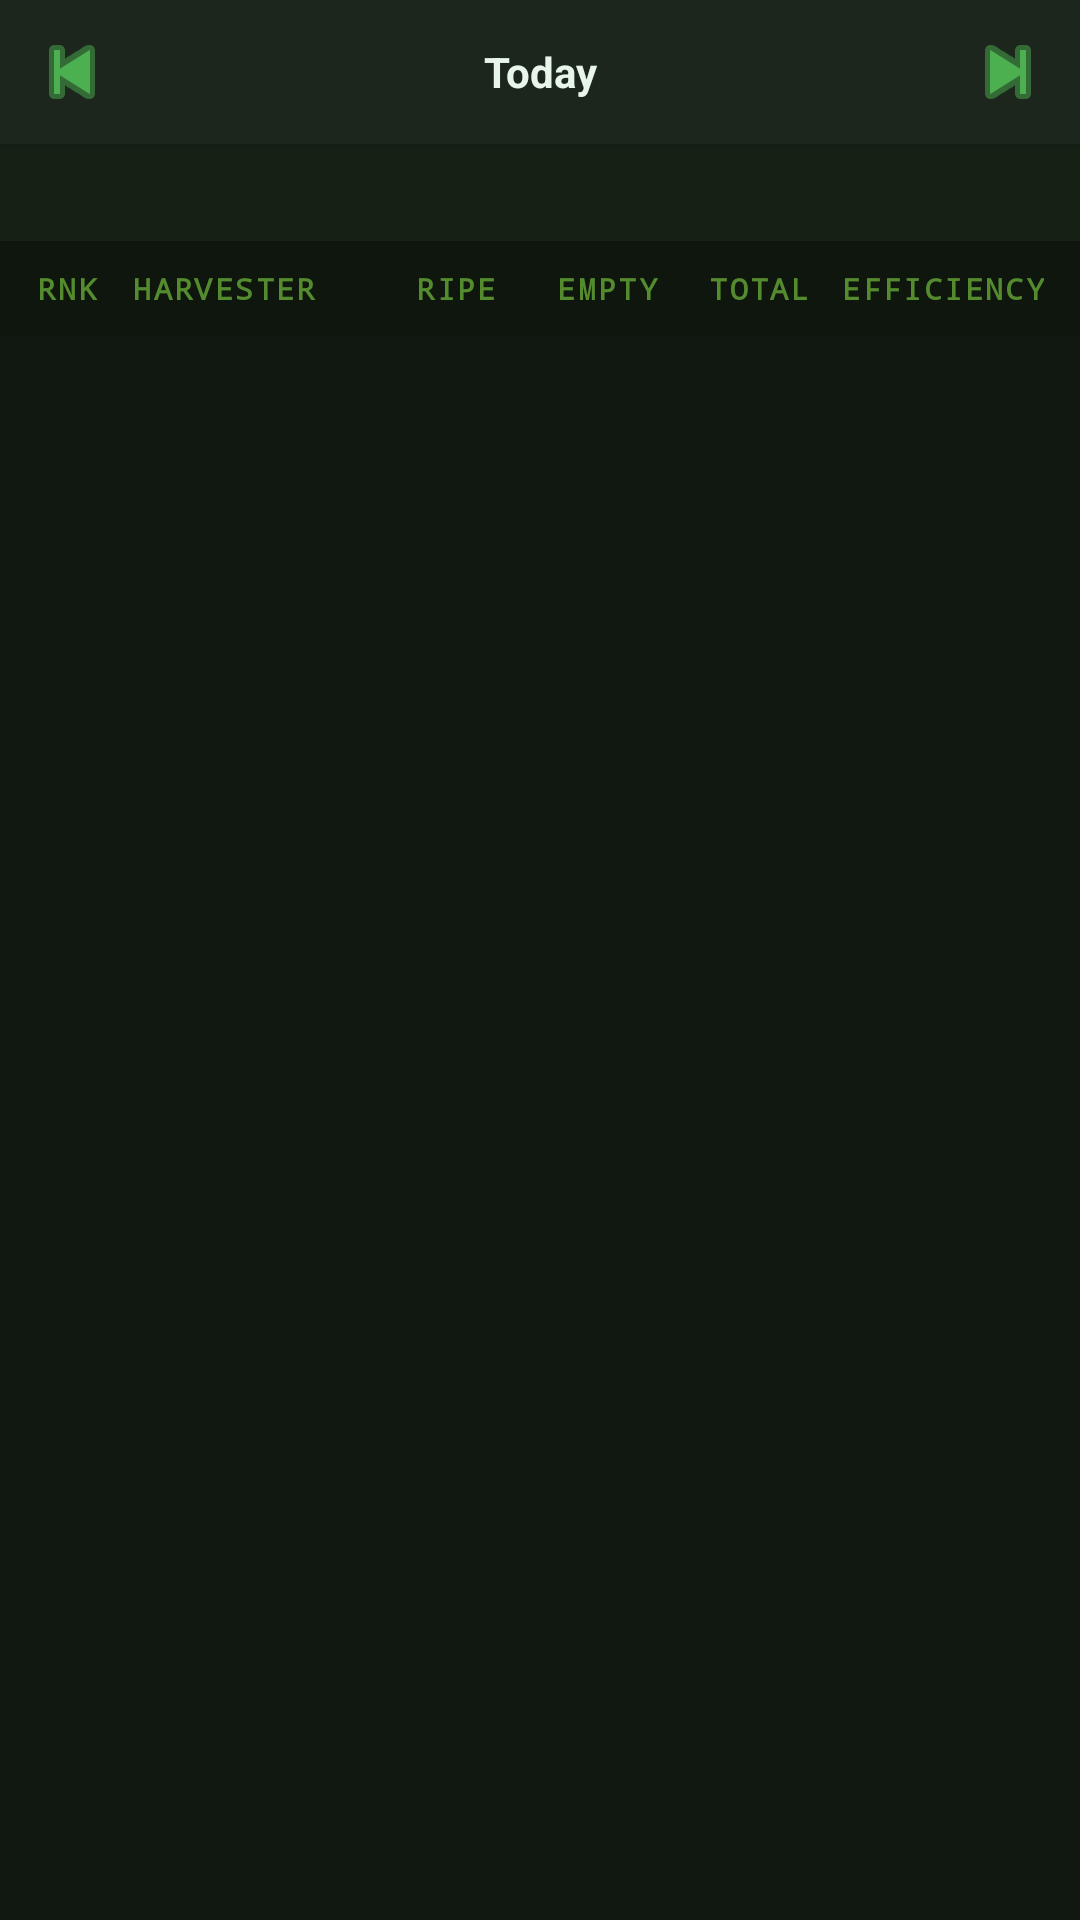

Icon bounding boxes for this 1080 × 1920 phone screenshot, format rect(x1, y1, x2, y2):
Next date: rect(985, 45, 1031, 99)
Previous date: rect(49, 45, 95, 99)
